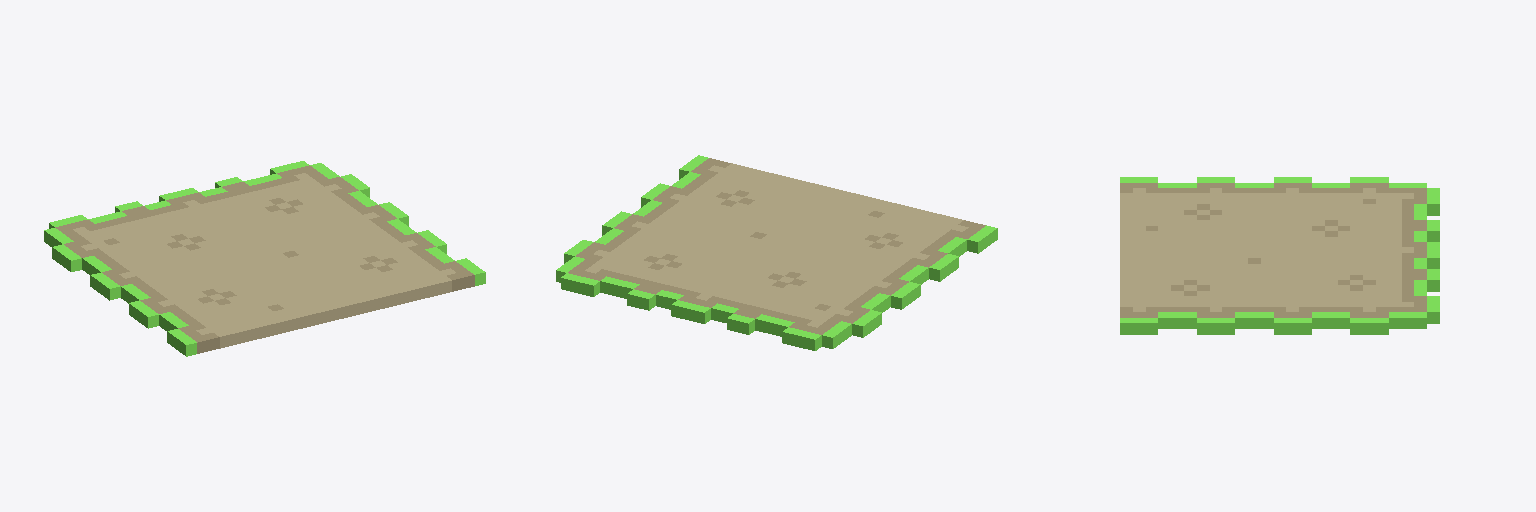
3 renders of one model, left to right at view 1: azimuth 30°, elevation 25°; view 2: azimuth 150°, elevation 25°; view 3: azimuth 270°, elevation 25°, orthographic.
Parts seen in each view (by area): view 1: Box_67; view 2: Box_67; view 3: Box_67.
Boxes of the visible parts, box(x1,y1,x2,y2) form: Box_67: box(44, 161, 485, 356); Box_67: box(556, 155, 997, 350); Box_67: box(1120, 177, 1439, 334).
Size of the model in its own units: 27 by 1 by 25.
Materials: 1 (1 with a texture image).